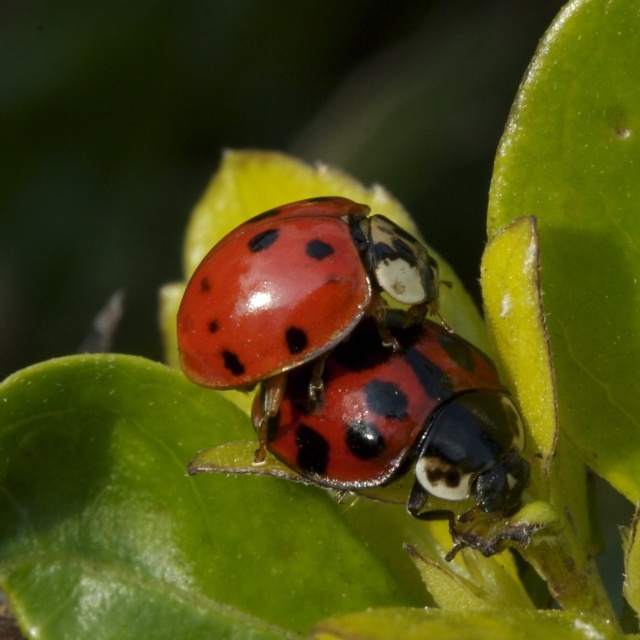Ladybug: (176, 196, 454, 463), (244, 306, 539, 550)
